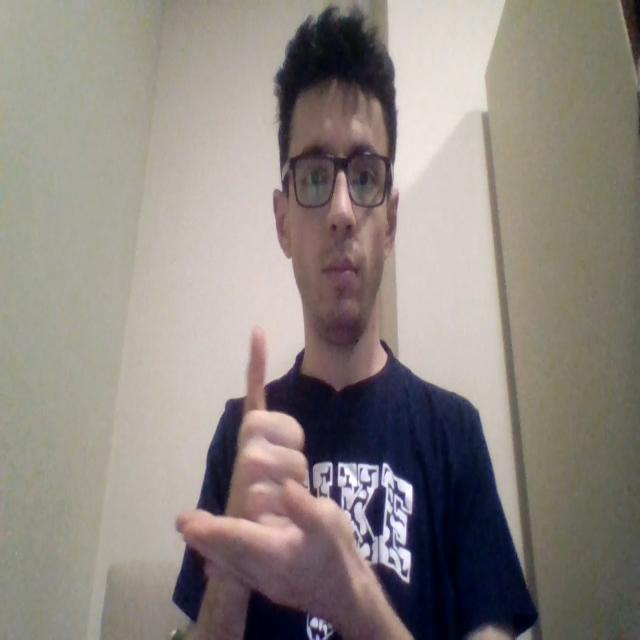help: (175, 322, 381, 608)
